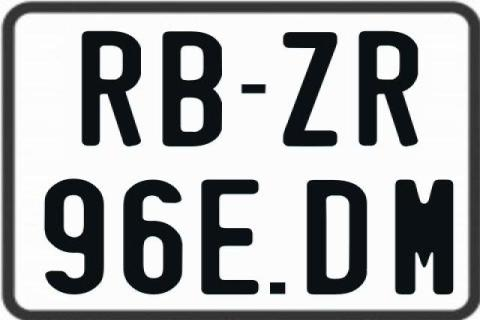0: (44, 177, 106, 295), (123, 180, 186, 296)
B: (162, 29, 227, 149)
D: (308, 179, 374, 295)
E: (199, 180, 257, 294)
M: (395, 179, 453, 299)
R: (79, 29, 144, 147), (358, 30, 420, 148)
Z: (280, 31, 339, 146)
